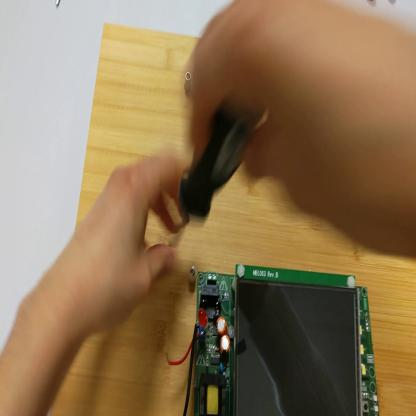hand: (186, 2, 401, 248), (68, 156, 182, 335)
low voltage board: (168, 261, 381, 412)
screwdriver-: (179, 99, 265, 249)
working area: (51, 21, 416, 415)
